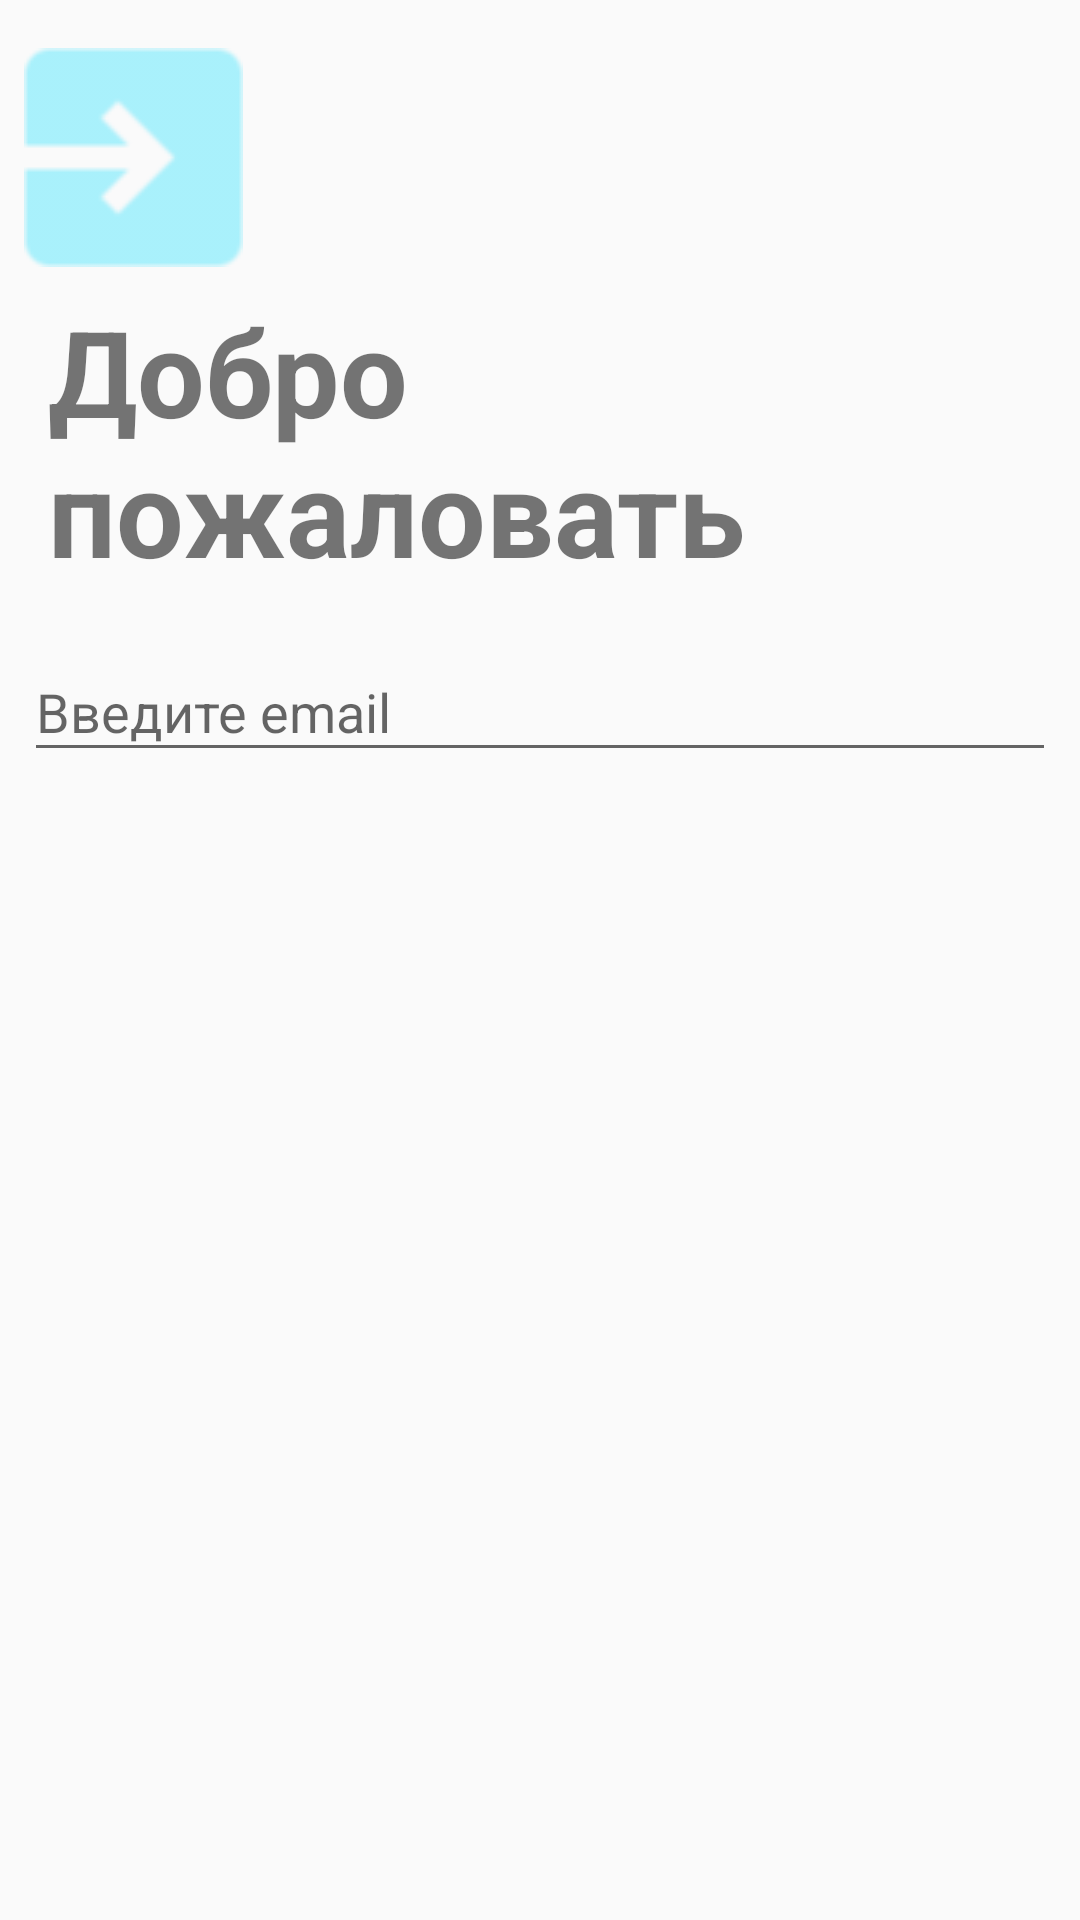

Icon click points for this 1080 × 1920 phone screenshot, format [x,y]:
login: [133,157]
